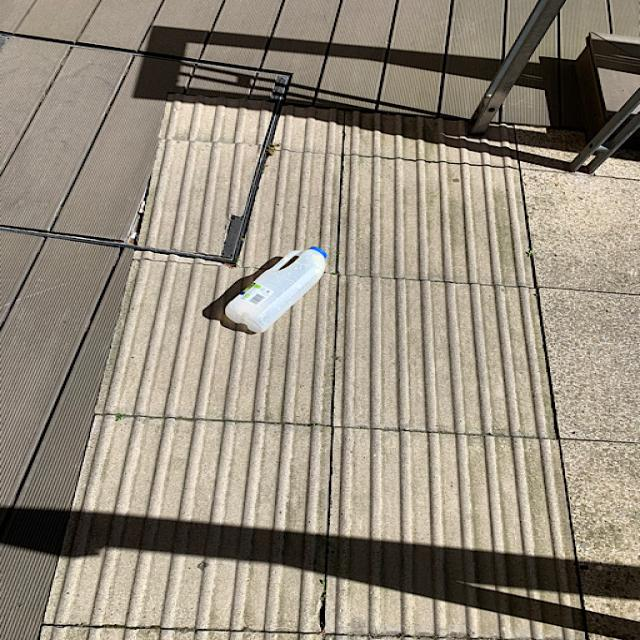litter: (214, 242, 332, 340)
